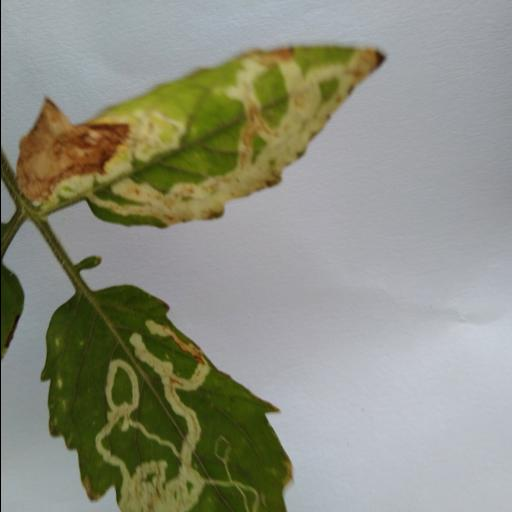disease_tomato: (12, 43, 390, 231), (40, 284, 292, 512)
